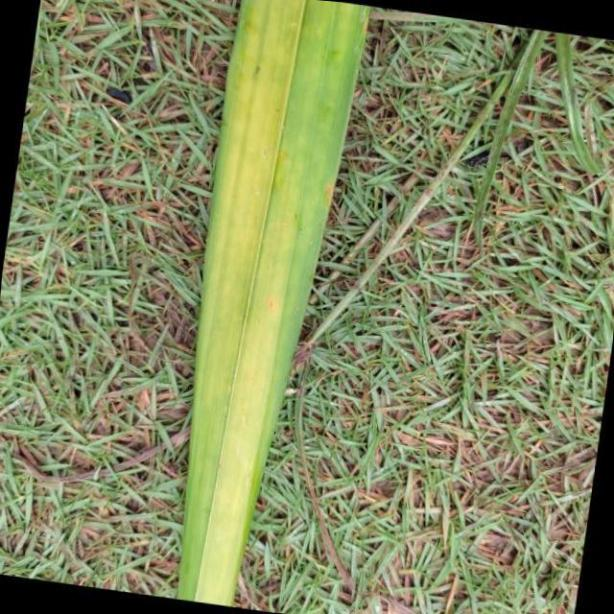nitrogen: (176, 0, 371, 614)
